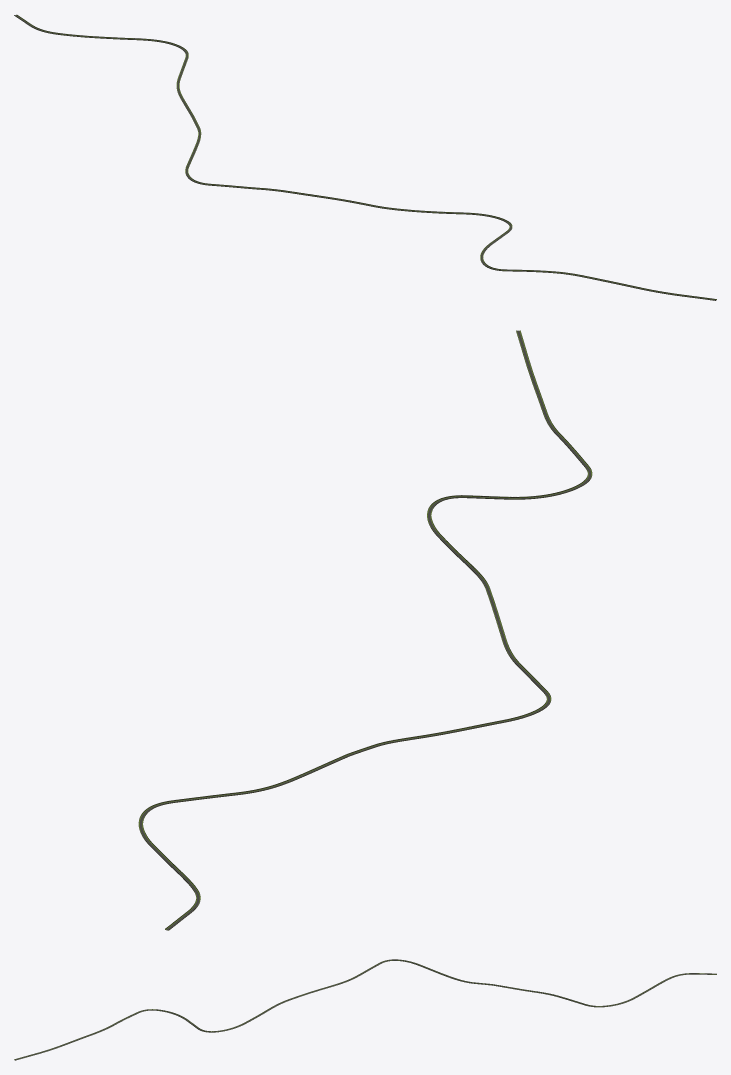
File: kajaman.glb
3 views of the same model, one above another, from view 1: azimuth 30°, elevation 25°; view 2: azimuth 150°, elevation 25°; view 3: azimuth 270°, elevation 25° (orthographic). The views are drawn at different scales.
Parts seen in each view (by area): view 1: l20km_cc2_sl30_t(401509)_rw28_wh15_n1_RsBTW_MeshV00; view 2: l20km_cc2_sl30_t(401509)_rw28_wh15_n1_RsBTW_MeshV00; view 3: l20km_cc2_sl30_t(401509)_rw28_wh15_n1_RsBTW_MeshV00.
Boxes of the visible parts, x1,y1,x2,y2 form: l20km_cc2_sl30_t(401509)_rw28_wh15_n1_RsBTW_MeshV00: [14, 14, 716, 300]; l20km_cc2_sl30_t(401509)_rw28_wh15_n1_RsBTW_MeshV00: [138, 330, 592, 930]; l20km_cc2_sl30_t(401509)_rw28_wh15_n1_RsBTW_MeshV00: [14, 959, 716, 1060].
Bounding box in the file's own units: 5218 × 83.63 × 15483.
4 materials, 4 textured.
